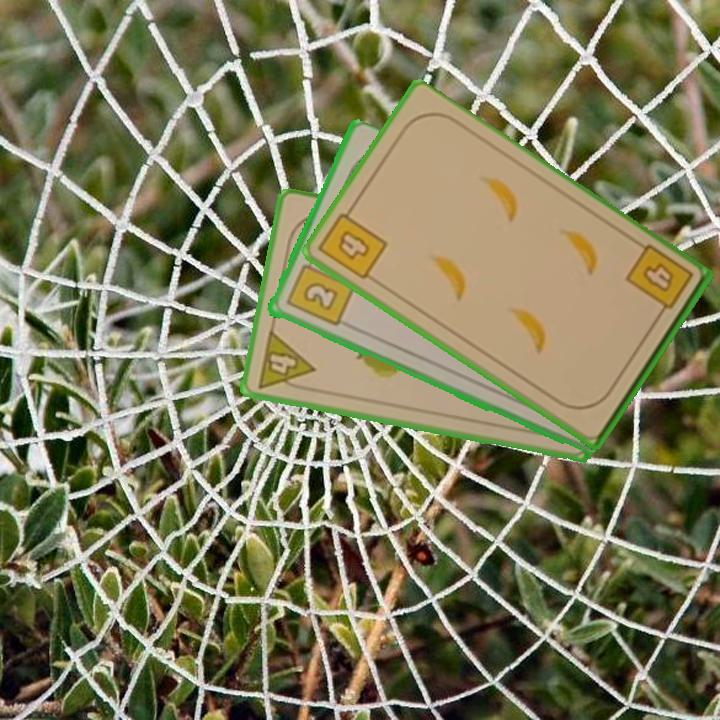2b: (282, 253, 356, 330)
4b: (315, 202, 390, 283), (622, 241, 696, 323)
4p: (253, 326, 318, 395)
